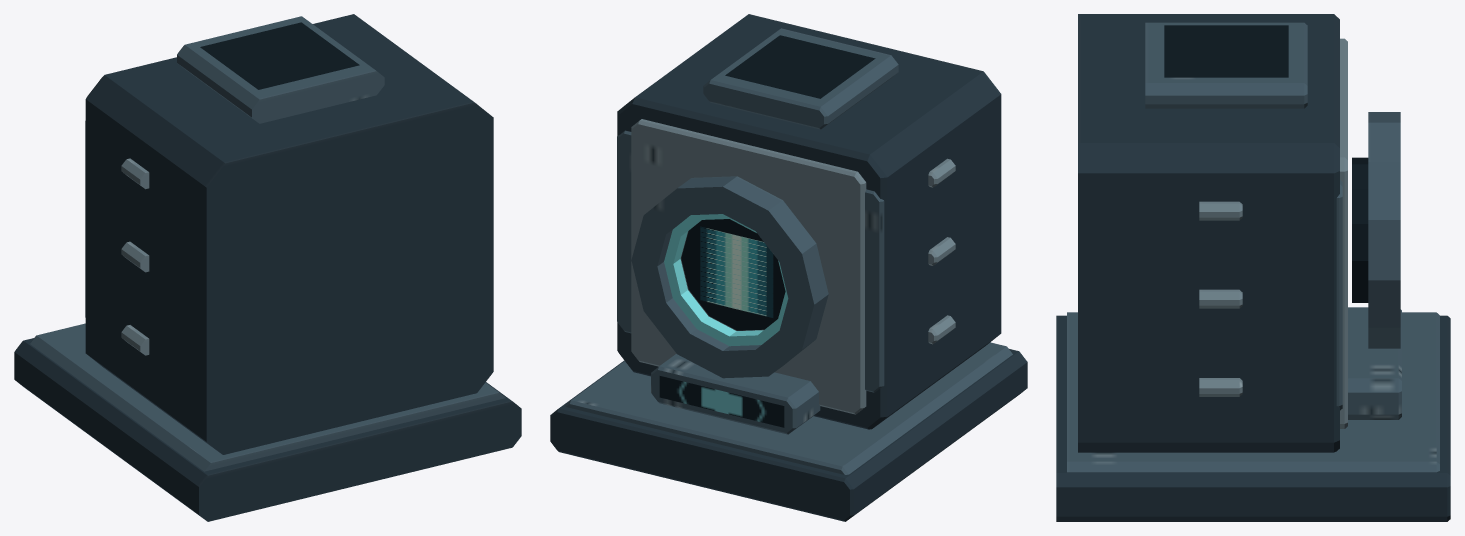
Rendered from ship_engine_unit.obj.
3 renders of one model, left to right at view 1: azimuth 30°, elevation 25°; view 2: azimuth 150°, elevation 25°; view 3: azimuth 270°, elevation 25°, orthographic. The views are drawn at different scales.
Visible parts, largest first — view 1: ignition_housing, plinth, plinth_trim, top_access_port, access_port_inset; view 2: ignition_housing, reactor_front, plinth, containment_ring, plinth_trim, top_access_port, socket_core, lower_interface, access_port_inset, side_module_1_6, inner_power_bus, ignition_socket (+2 smaller); view 3: ignition_housing, plinth, plinth_trim, top_access_port, containment_ring, access_port_inset, lower_interface, reactor_front, ignition_socket, side_module_12_7, bus_strap_8_6, bus_strap_12_2 (+1 smaller).
Boxes of the visible parts, x1,y1,x2,y2 form: ignition_housing: (85,14,493,454); plinth: (14,338,521,521); plinth_trim: (30,323,505,471); top_access_port: (177,16,384,123); access_port_inset: (200,22,359,89); ignition_housing: (617,14,1001,429); reactor_front: (631,119,866,414); plinth: (550,349,1027,521); containment_ring: (631,176,828,378); plinth_trim: (565,342,1012,474); top_access_port: (703,28,898,129); socket_core: (700,226,773,317); lower_interface: (651,354,820,434); access_port_inset: (725,35,875,98); side_module_1_6: (865,189,884,392); inner_power_bus: (664,214,788,346); ignition_socket: (681,219,785,330); ignition_housing: (1078,14,1339,452); plinth: (1056,315,1450,521); plinth_trim: (1067,312,1439,472); top_access_port: (1145,22,1307,108); containment_ring: (1368,112,1400,348); access_port_inset: (1164,25,1288,77); lower_interface: (1348,307,1401,419); reactor_front: (1340,38,1347,428); ignition_socket: (1352,157,1368,302); side_module_12_7: (1336,180,1342,410); bus_strap_8_6: (1199,289,1242,308); bus_strap_12_2: (1199,201,1242,220).
Size of the model in its own units: 0.9125 by 1 by 0.9125.
